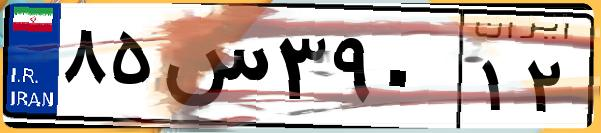0: (385, 28, 445, 110)
1: (475, 38, 525, 113)
2: (525, 38, 570, 115)
3: (270, 28, 330, 110)
5: (110, 28, 158, 98)
8: (57, 26, 110, 100)
9: (330, 28, 385, 110)
س: (158, 20, 270, 120)
